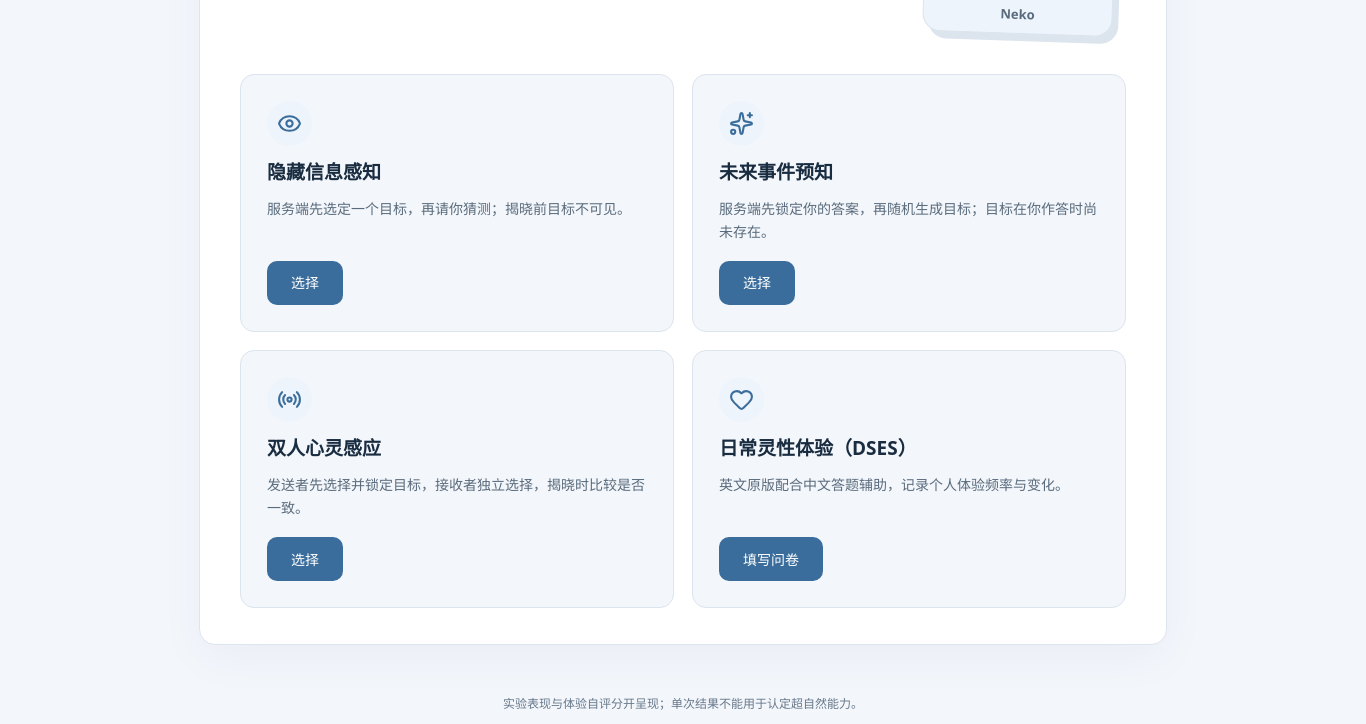
Test: saves logged-in DSES to the account without exposing local drafts; failed saves preserve answers
(page scrolled)
Click the button "填写问卷" at (771, 559), box [719,537,823,581]
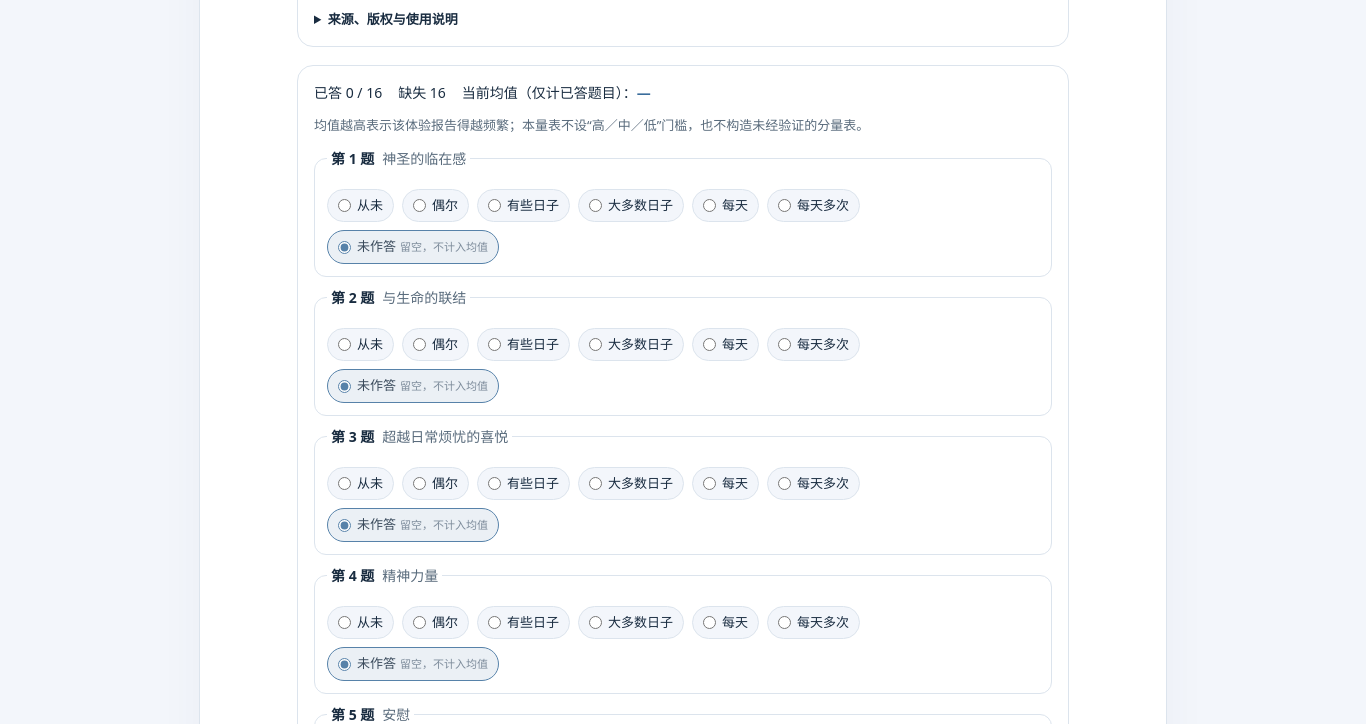
Check: the 1st radio button labelled "每天多次" is not checked
Click the 1st radio button labelled "每天多次" at (785, 206), box [778,199,791,212]
(page scrolled)
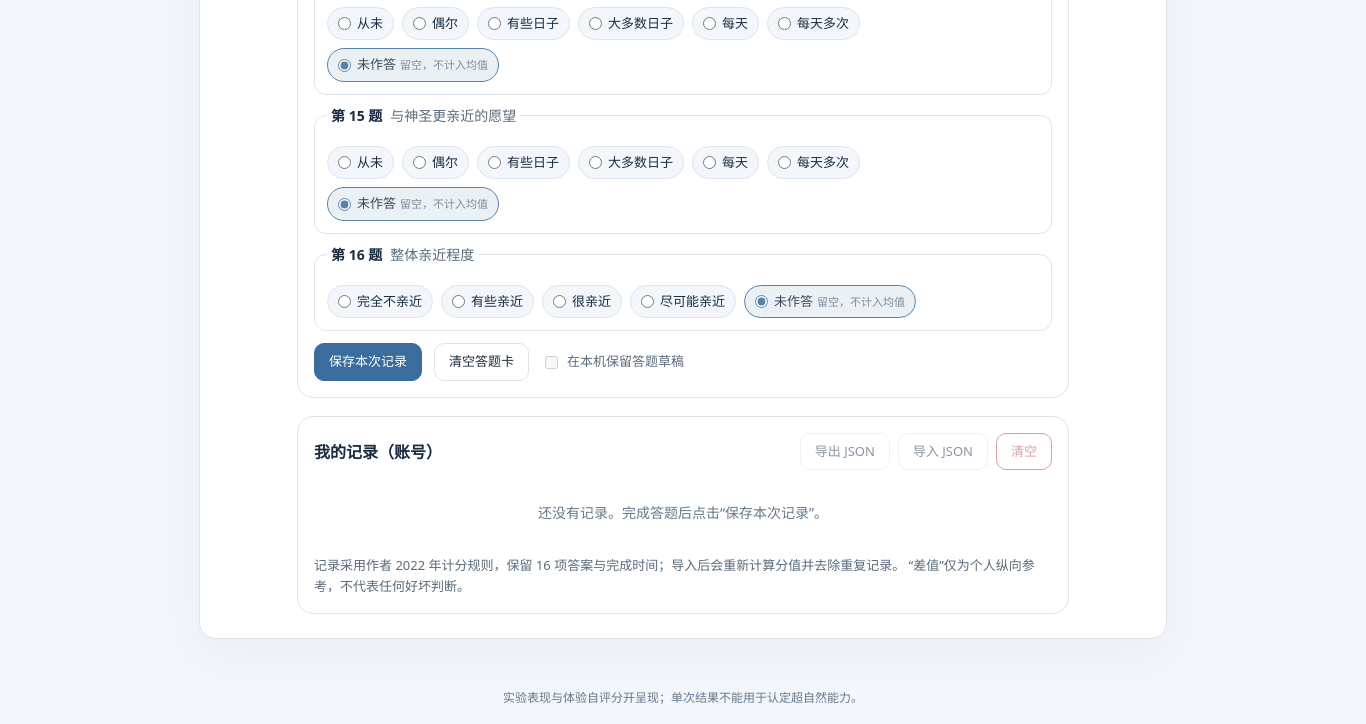
Click the button "保存本次记录" at (368, 362), box [314,343,422,381]
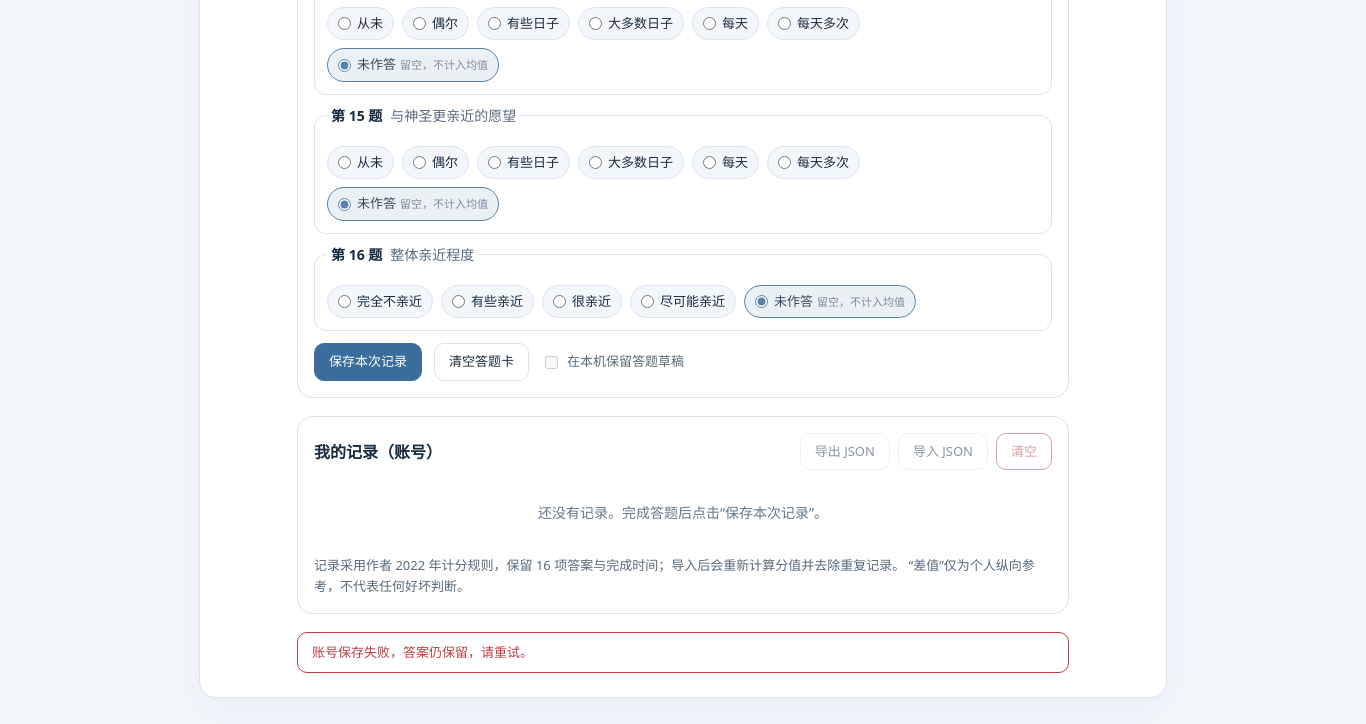
Check: the text "账号保存失败，答案仍保留，请重试。" is shown, box [297,632,1069,673]
Click the button "保存本次记录" at (368, 362), box [314,343,422,381]
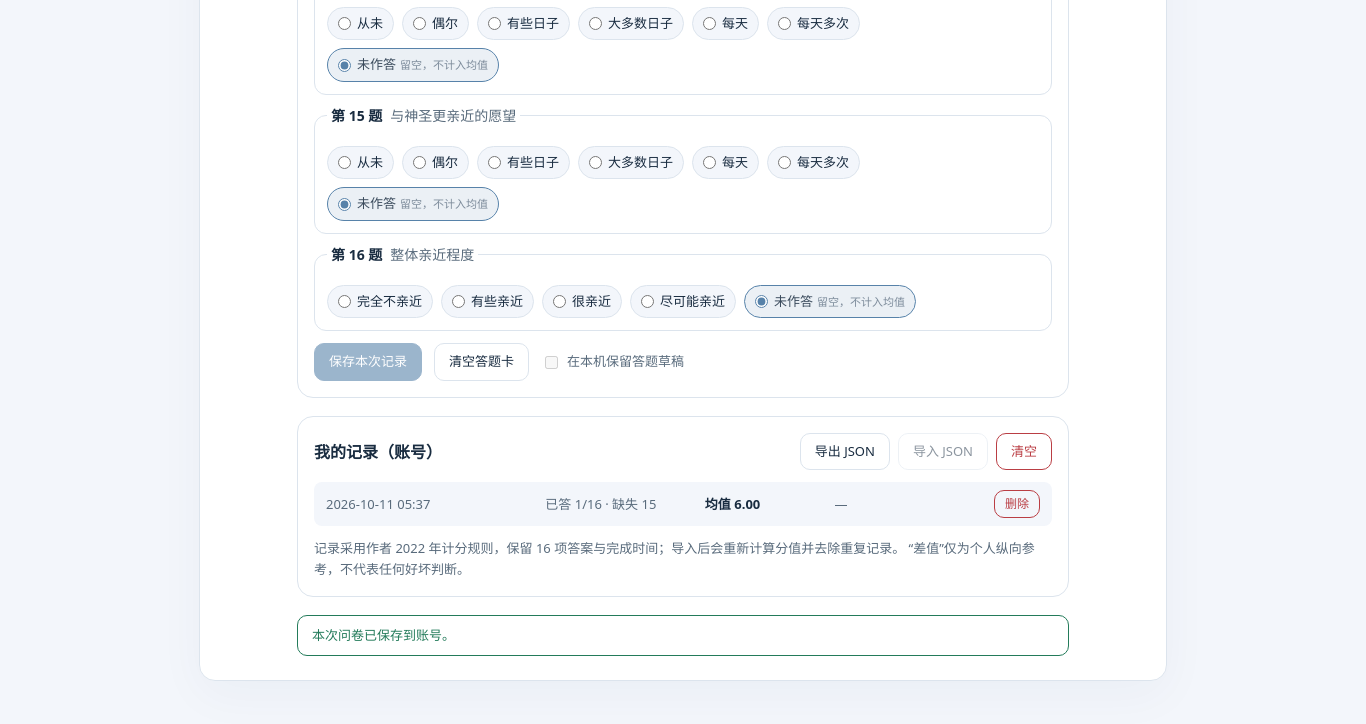
Check: the heading "我的记录（账号）" is shown, box [314,440,442,464]
Check: the text "本次问卷已保存到账号。" is shown, box [297,615,1069,656]
